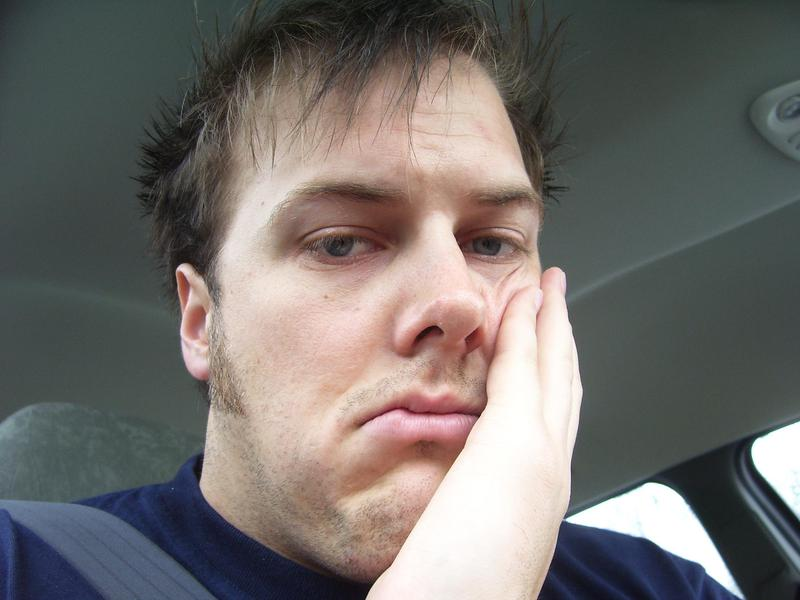person: (3, 5, 739, 600)
